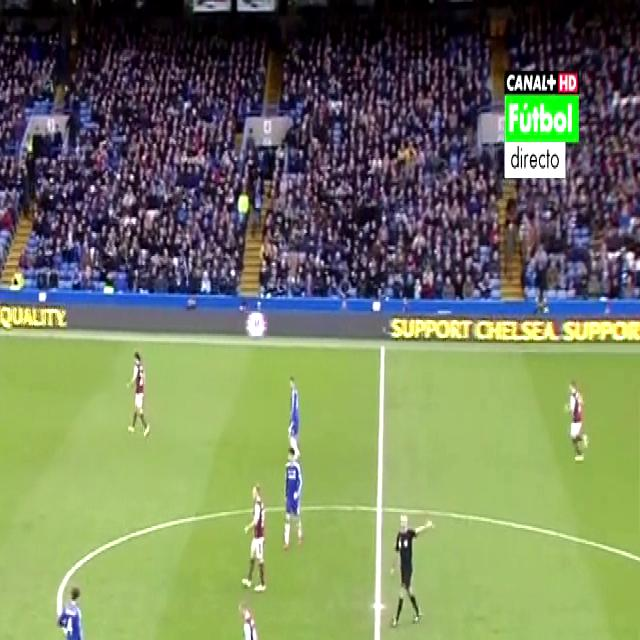referee: (386, 499, 428, 630)
soccer-player: (238, 472, 275, 600), (276, 441, 305, 560), (122, 340, 154, 447), (562, 370, 594, 471), (51, 574, 89, 640), (284, 367, 307, 464), (231, 597, 270, 640)
